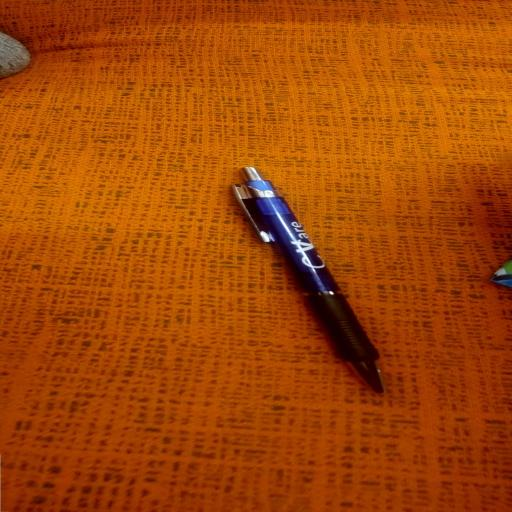pen: (233, 168, 384, 392)
